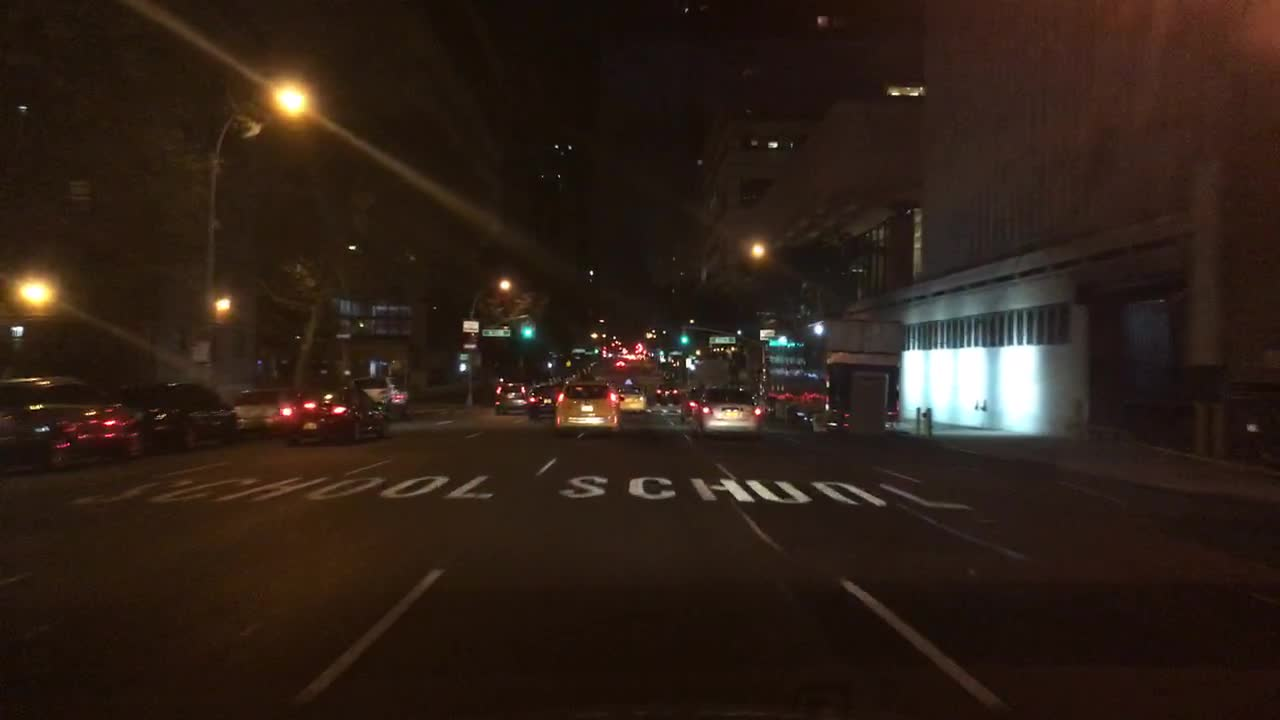car: (0, 375, 135, 467), (117, 379, 241, 451), (280, 377, 389, 442), (551, 379, 623, 439), (694, 386, 760, 440), (229, 387, 283, 434), (350, 375, 409, 417), (493, 378, 531, 415), (526, 383, 563, 419), (614, 377, 644, 413), (654, 379, 680, 404), (679, 387, 697, 423), (612, 359, 627, 368), (601, 350, 612, 358), (625, 354, 635, 360)
traffic light: (520, 320, 532, 336), (680, 335, 687, 345), (458, 363, 466, 371)
traffic sign: (461, 320, 480, 331), (758, 328, 775, 340), (481, 328, 509, 335), (708, 336, 735, 343), (462, 342, 478, 347), (458, 352, 468, 360), (571, 347, 584, 353), (565, 359, 571, 367), (583, 350, 593, 354)
